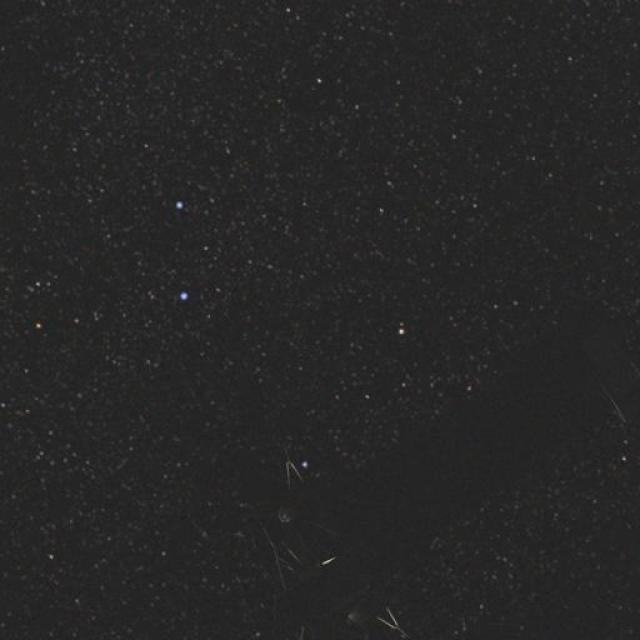xmm_newton: (221, 396, 640, 629)
